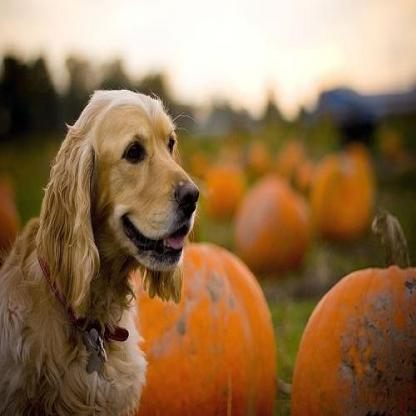cocker_spaniel: (0, 78, 202, 414)
